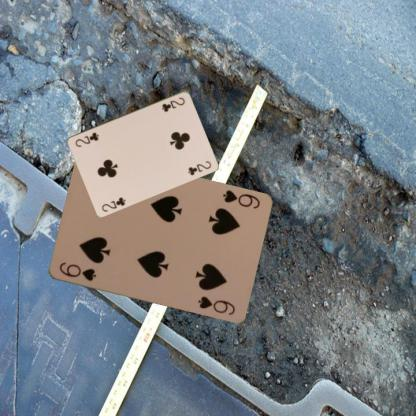2c: (99, 194, 127, 213), (159, 94, 186, 113)
6s: (56, 260, 97, 283), (220, 188, 261, 210)
